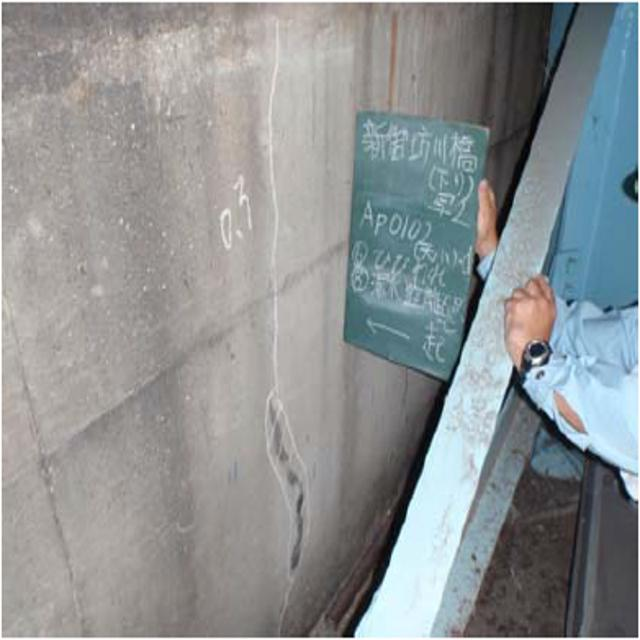crack: (254, 21, 292, 382), (260, 394, 320, 622)
